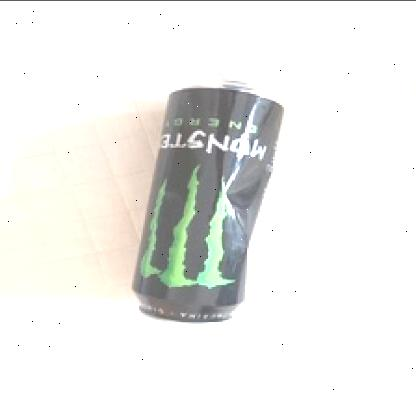Can: (126, 68, 290, 337)
